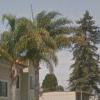Tree: (14, 6, 93, 68)
